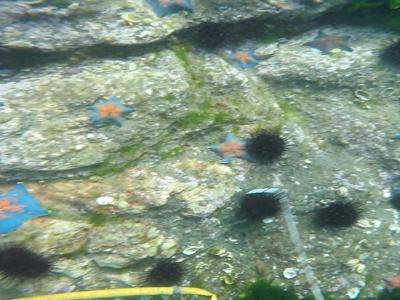urchin: (3, 246, 51, 277), (315, 199, 353, 226), (148, 260, 184, 288), (251, 130, 283, 159), (245, 194, 277, 218), (383, 39, 398, 71)
